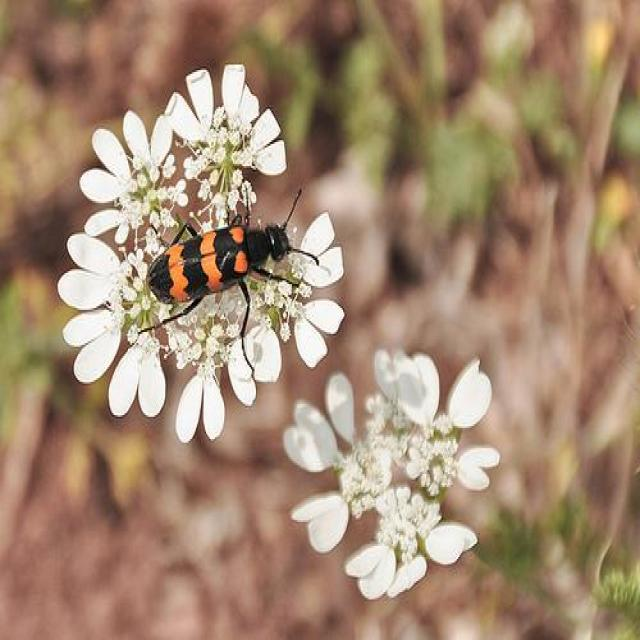BlisterBeetle-Adult-: (142, 183, 318, 339)
